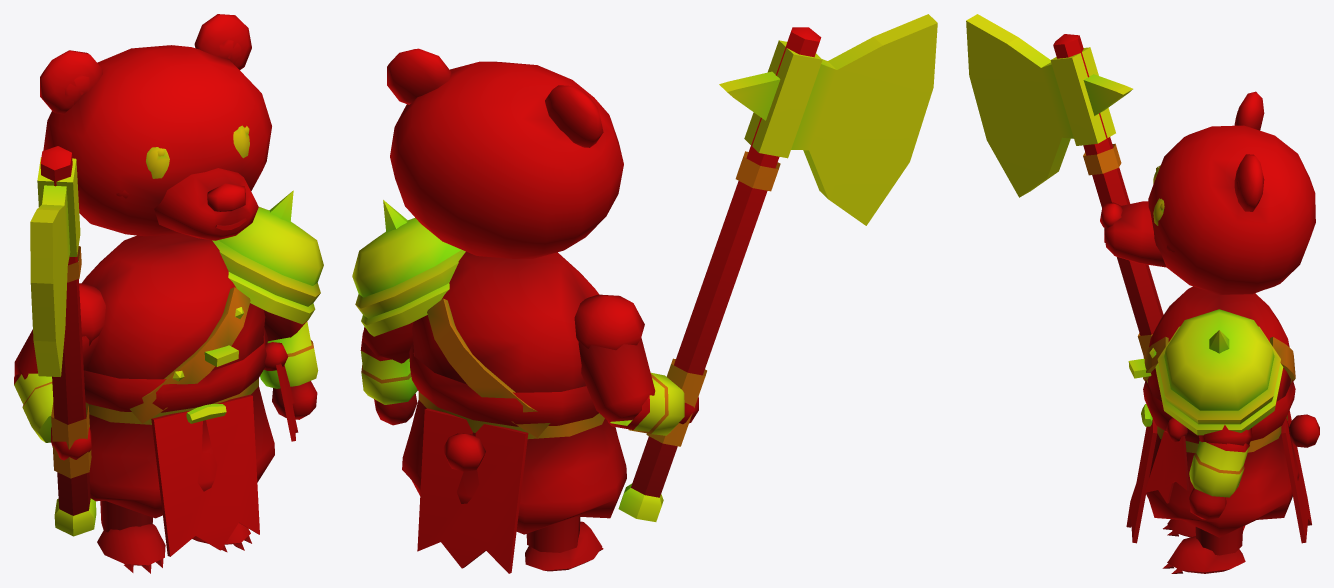
Rendered from BeastmanWarrior.glb.
3 views of the same model, side by side, from view 1: azimuth 30°, elevation 25°; view 2: azimuth 150°, elevation 25°; view 3: azimuth 270°, elevation 25° (orthographic). The views are drawn at different scales.
Visible parts, largest first — view 1: BeastmanWarrior; view 2: BeastmanWarrior; view 3: BeastmanWarrior.
Boxes of the visible parts, bbox=[...] form: BeastmanWarrior: bbox=[14, 14, 323, 573]; BeastmanWarrior: bbox=[352, 14, 937, 573]; BeastmanWarrior: bbox=[966, 14, 1319, 573].
Bounding box in the file's own units: 0.7365 × 0.8334 × 0.6172.
